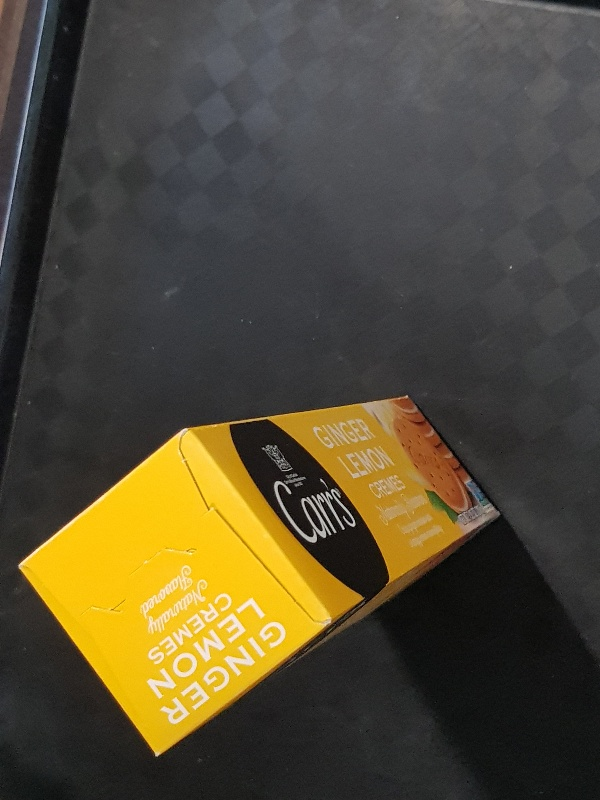Carr's Ginger Lemon Cremes: (18, 393, 501, 757)
